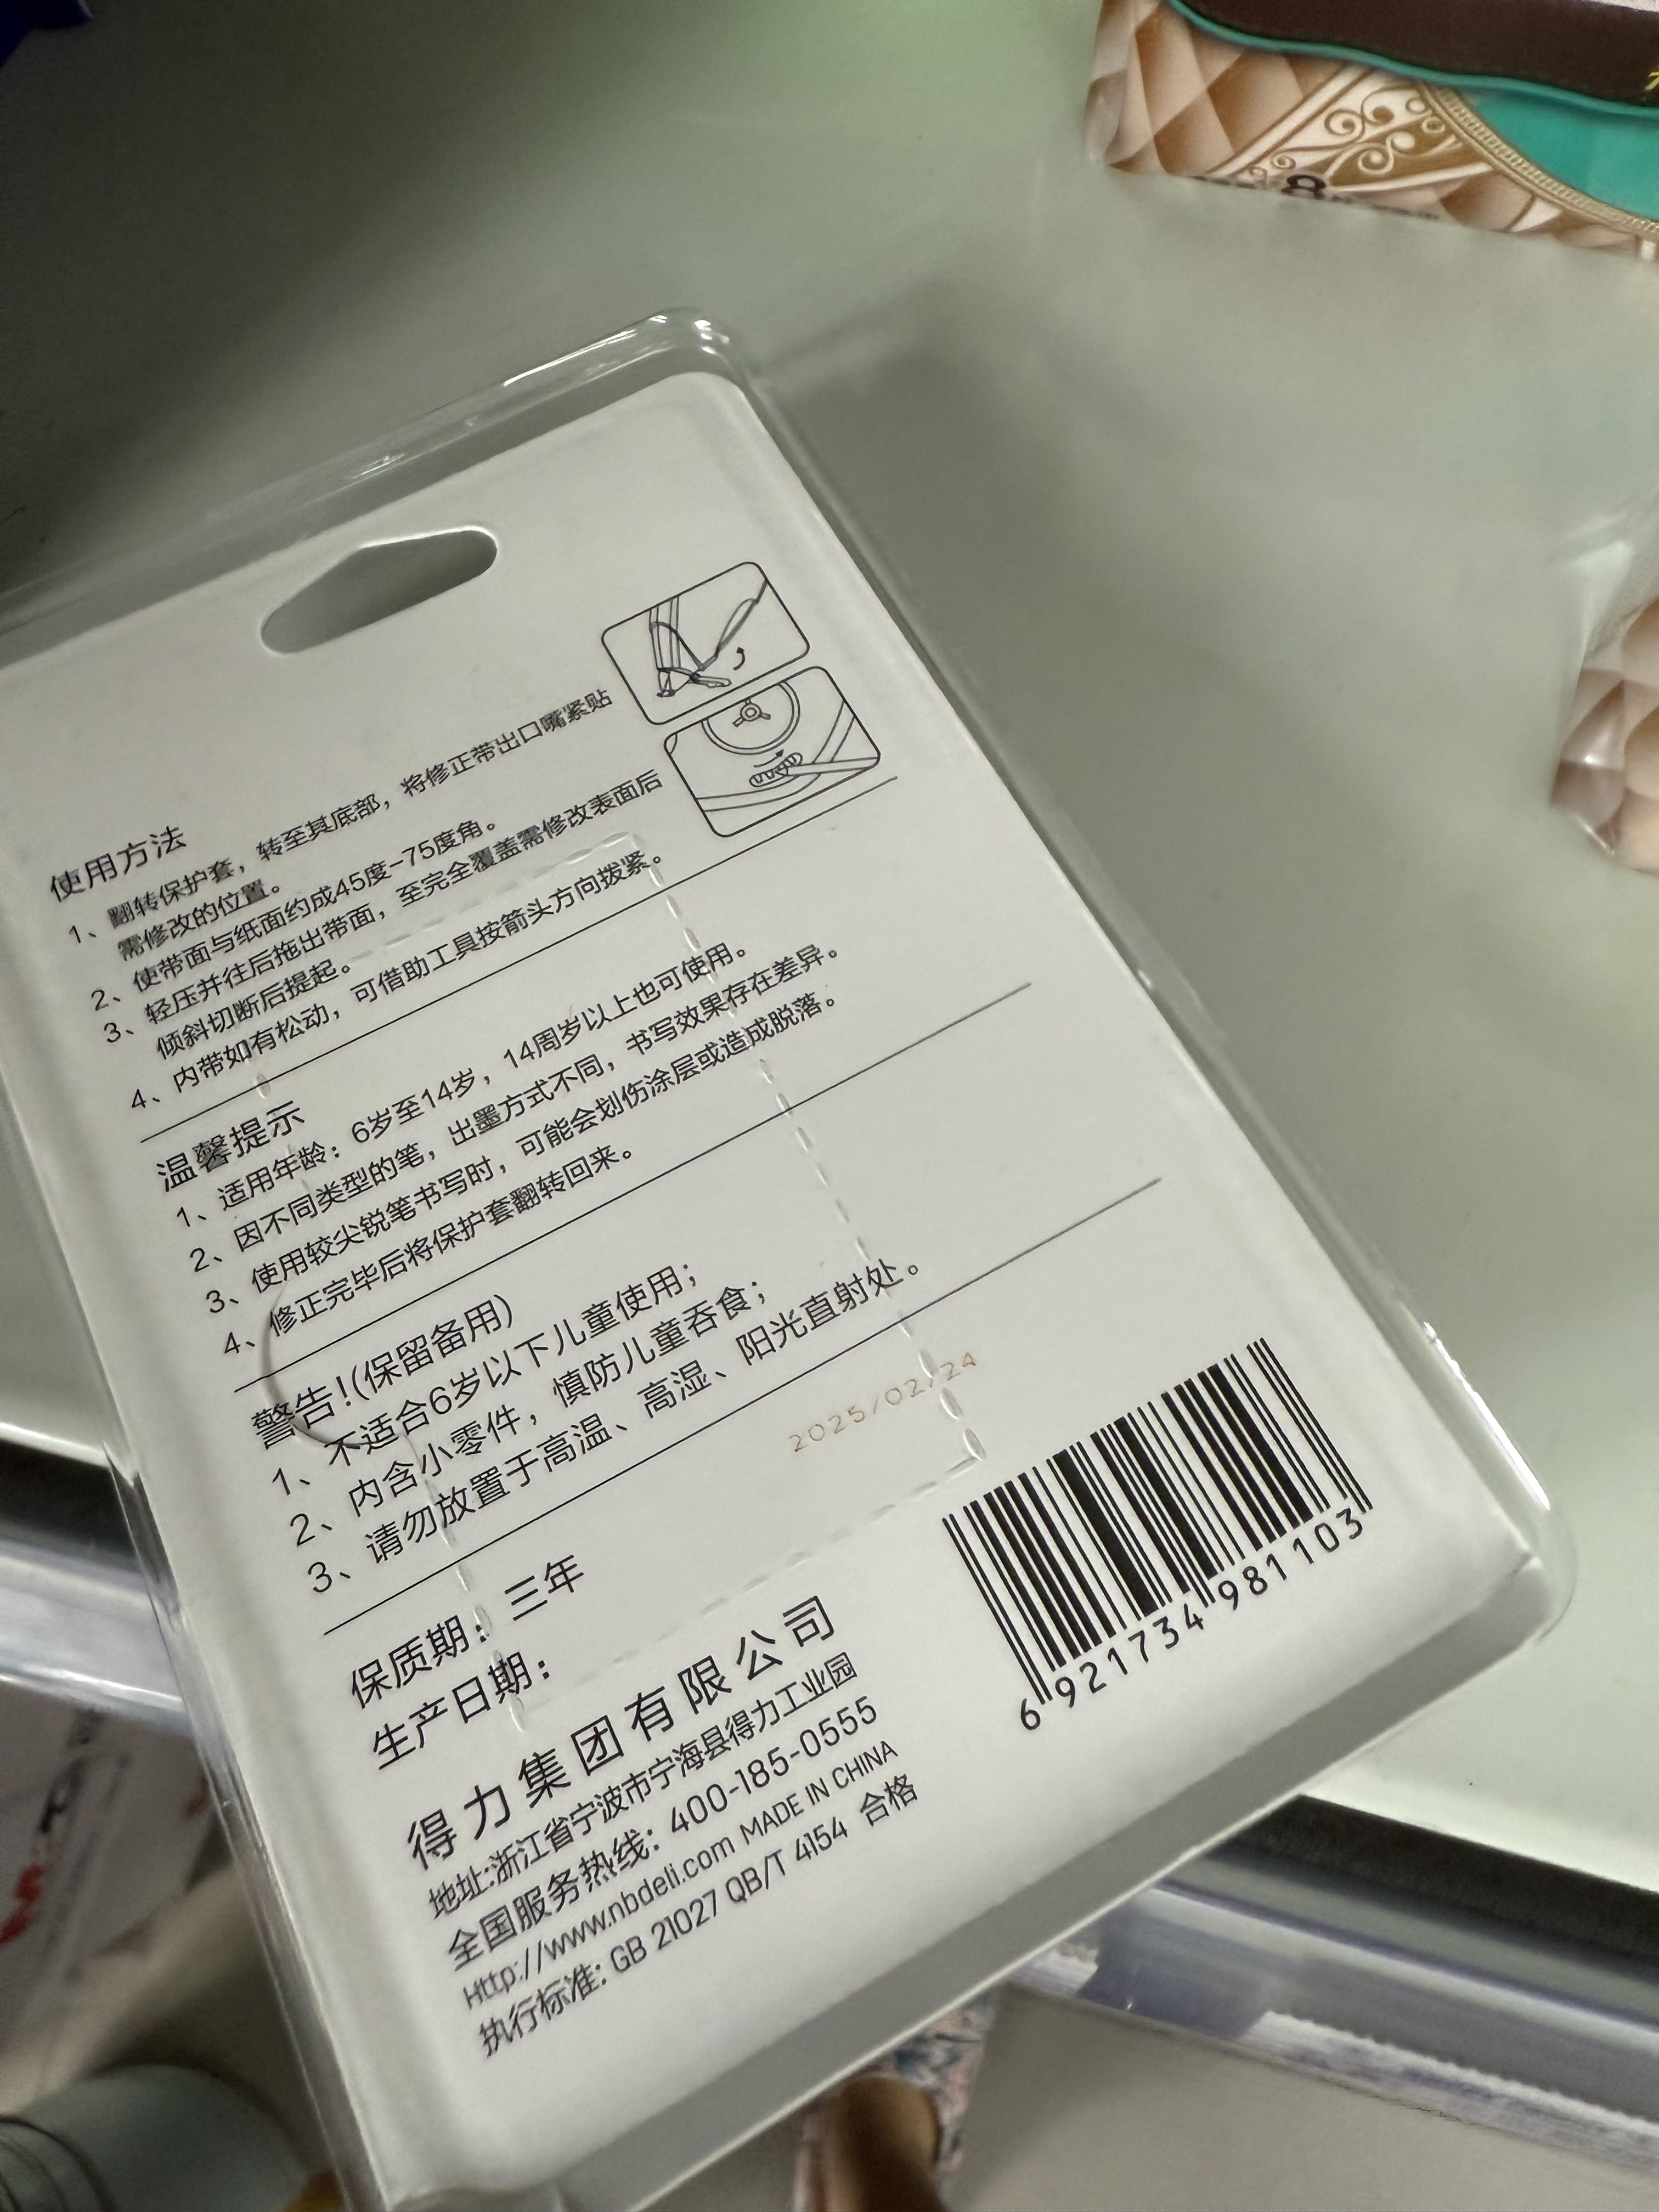bar: (934, 1329, 1384, 1710)
